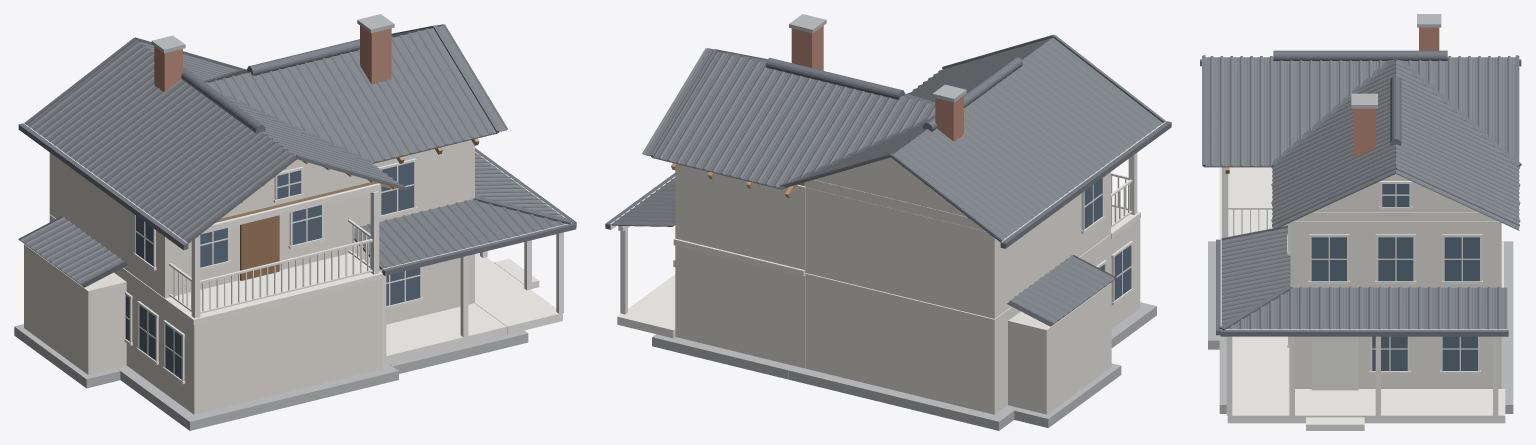
File: Pico_Rib_1220_LShape_Balcony_House.glb
3 renders of one model, left to right at view 1: azimuth 30°, elevation 25°; view 2: azimuth 150°, elevation 25°; view 3: azimuth 270°, elevation 25°, orthographic. The views are drawn at different scales.
Visible parts, largest first — view 1: WingA_Walls_GF, WingA_Walls_2F, SideBay_Walls, WingB_Walls, Balcony_Floor, Foundation_WingA, RoofSheet_20, Porch_Deck_FrontB, RoofSheet_22, RoofSheet_23, Porch_Deck_RightB, RoofSheet_07 (+53 smaller); view 2: WingA_Walls_2F, WingA_Walls_GF, WingB_Walls, SideBay_Walls, Foundation_WingA, RoofSheet_25, RoofSheet_26, RoofSheet_27, RoofSheet_24, RoofSheet_02, RoofSheet_07, RoofSheet_05 (+33 smaller); view 3: WingB_Walls, Porch_Deck_RightB, RoofSheet_10, RoofSheet_09, RoofSheet_16, RoofSheet_11, Porch_Deck_FrontB, Balcony_Floor, Door_Frame, Gable_Wall_WingB_Right, RoofSheet_22, RoofSheet_25 (+57 smaller).
Part boxes in pixels (bbox=[...]): WingA_Walls_GF: bbox=[49, 214, 382, 414]; WingA_Walls_2F: bbox=[49, 152, 353, 298]; SideBay_Walls: bbox=[24, 244, 126, 374]; WingB_Walls: bbox=[353, 140, 474, 324]; Balcony_Floor: bbox=[164, 253, 382, 324]; Foundation_WingA: bbox=[116, 363, 398, 430]; RoofSheet_20: bbox=[306, 54, 402, 162]; Porch_Deck_FrontB: bbox=[382, 303, 506, 364]; RoofSheet_22: bbox=[391, 33, 472, 146]; RoofSheet_23: bbox=[410, 24, 507, 138]; Porch_Deck_RightB: bbox=[475, 253, 562, 334]; RoofSheet_07: bbox=[147, 131, 276, 227]; WingA_Walls_2F: bbox=[805, 172, 1110, 318]; WingA_Walls_GF: bbox=[805, 218, 1140, 414]; WingB_Walls: bbox=[675, 164, 805, 368]; SideBay_Walls: bbox=[1008, 282, 1111, 414]; Foundation_WingA: bbox=[788, 302, 1156, 430]; RoofSheet_25: bbox=[677, 57, 773, 171]; RoofSheet_26: bbox=[713, 69, 809, 179]; RoofSheet_27: bbox=[748, 78, 844, 187]; RoofSheet_24: bbox=[642, 48, 740, 162]; RoofSheet_02: bbox=[912, 128, 1042, 226]; RoofSheet_07: bbox=[1018, 50, 1144, 150]; RoofSheet_05: bbox=[977, 83, 1103, 180]; WingB_Walls: bbox=[1290, 221, 1501, 388]; Porch_Deck_RightB: bbox=[1227, 389, 1505, 423]; RoofSheet_10: bbox=[1241, 56, 1281, 166]; RoofSheet_09: bbox=[1202, 56, 1241, 166]; RoofSheet_16: bbox=[1479, 56, 1519, 163]; RoofSheet_11: bbox=[1281, 60, 1320, 156]; Porch_Deck_FrontB: bbox=[1232, 336, 1289, 388]; Balcony_Floor: bbox=[1219, 167, 1272, 239]; Door_Frame: bbox=[1311, 336, 1358, 390]; Gable_Wall_WingB_Right: bbox=[1313, 161, 1478, 212]; RoofSheet_22: bbox=[1272, 142, 1395, 213]; RoofSheet_25: bbox=[1396, 142, 1519, 213].
Bounding box in the file's own units: 12.46 × 7.83 × 8.22.
